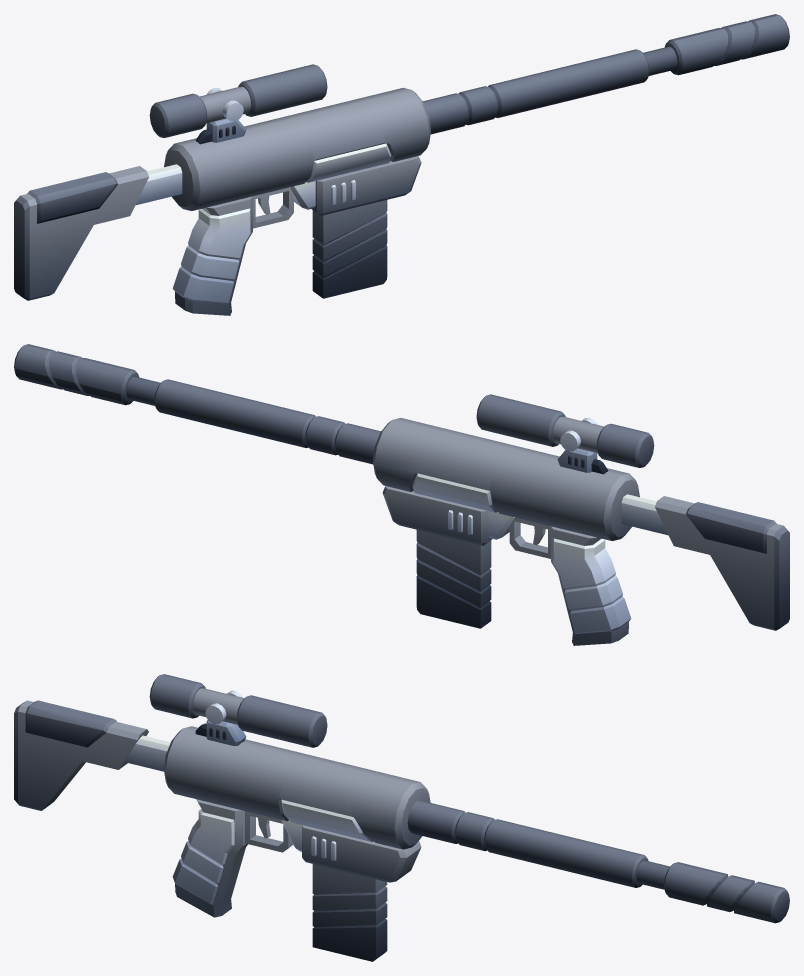
The model's file is Weapon4.FBX.
3 views of the same model, one above another, from view 1: azimuth 30°, elevation 25°; view 2: azimuth 150°, elevation 25°; view 3: azimuth 330°, elevation 25° (orthographic).
Visible parts, largest first — view 1: Cylinder013; view 2: Cylinder013; view 3: Cylinder013.
Part boxes in pixels (x1,y1,x2,y2): Cylinder013: [14, 14, 789, 315]; Cylinder013: [14, 344, 789, 645]; Cylinder013: [14, 674, 789, 961].
Bounding box in the file's own units: 76.82 × 22.09 × 6.09.
